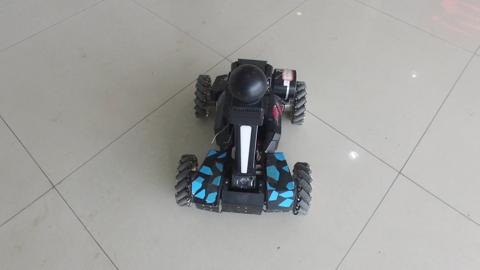chariot: (163, 46, 331, 222)
